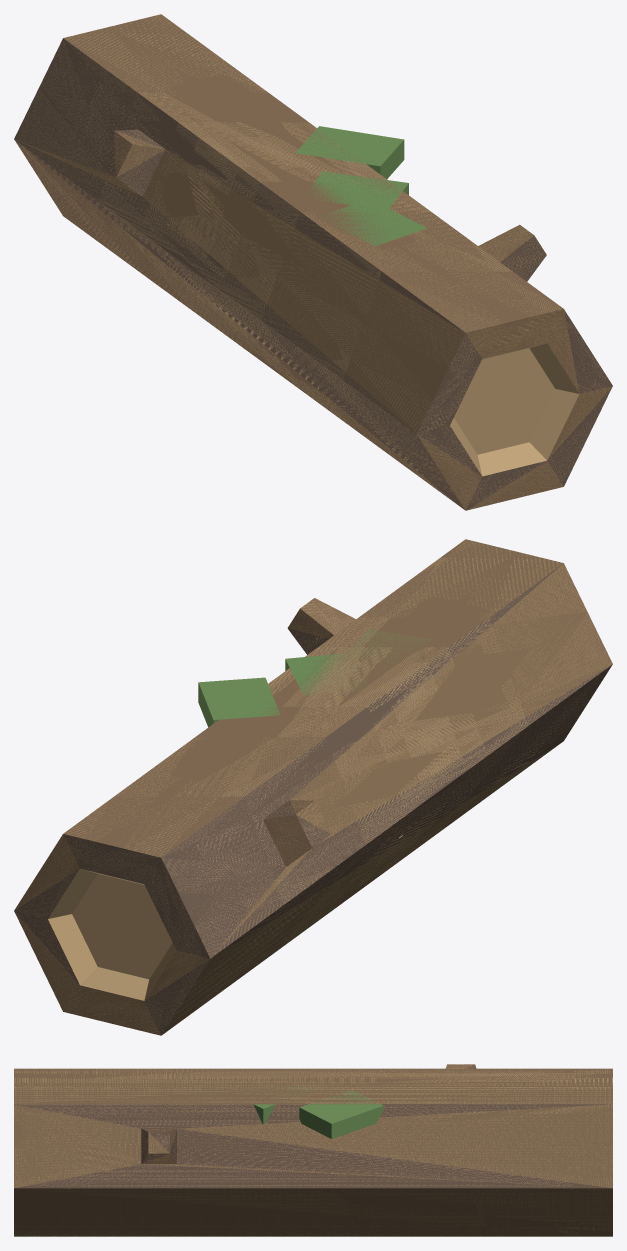
Rendered from log.glb.
3 views of the same model, one above another, from view 1: azimuth 30°, elevation 25°; view 2: azimuth 150°, elevation 25°; view 3: azimuth 270°, elevation 25° (orthographic). The views are drawn at different scales.
Visible parts, largest first — view 1: log; view 2: log; view 3: log.
Boxes of the visible parts, box(x1,y1,x2,y2) form: log: box(14, 14, 612, 510); log: box(14, 539, 612, 1035); log: box(14, 1064, 612, 1236).
Bounding box in the file's own units: 0.234 × 0.1732 × 0.71.
